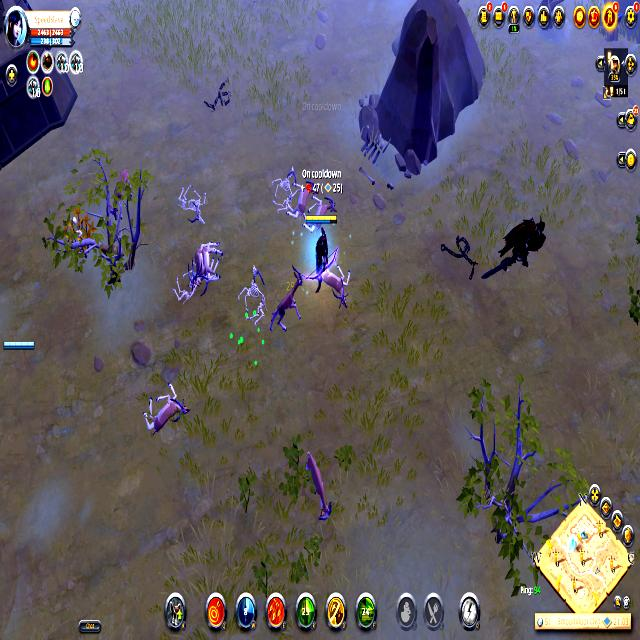hide: (63, 204, 99, 258)
mob: (140, 381, 190, 442), (184, 236, 224, 294), (317, 256, 354, 313), (300, 196, 338, 240), (286, 179, 320, 221)
ore: (479, 213, 550, 285), (296, 444, 340, 520), (266, 262, 306, 339), (110, 166, 134, 227)
red: (2, 336, 37, 356)
